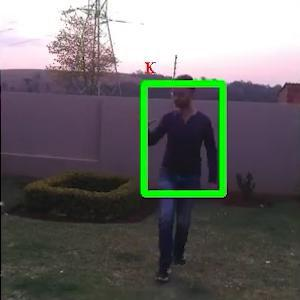follow_hand: (131, 101, 159, 129)
